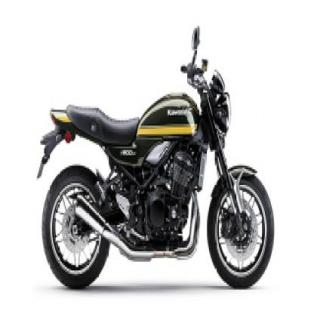Motocicleta: (30, 19, 276, 292)
